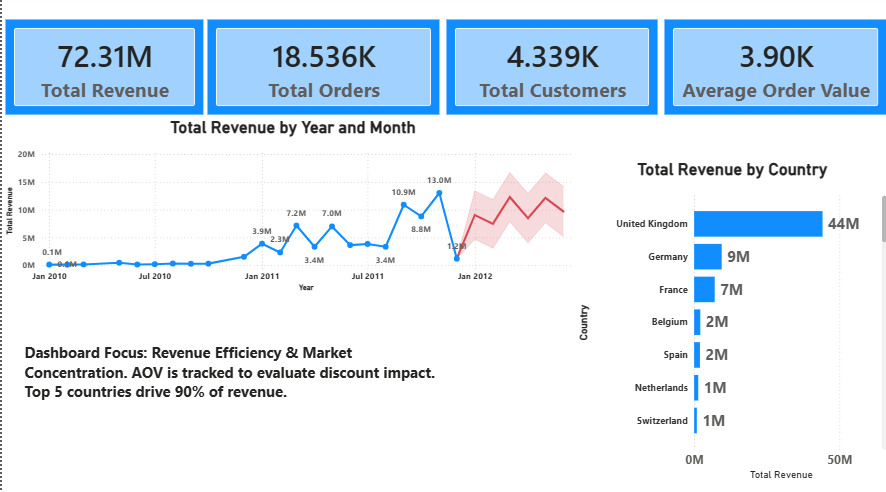

The page's visual inventory and layout, read from the dashboard file:
{"tool":"powerbi","page":{"name":"CEO View","canvas":[1280,720],"ordinal":0},"visuals":[{"type":"cardVisual","fields":{"Data":["customers.Total Revenue"]},"box":[0,30.2,295.6,147.8],"z":0},{"type":"cardVisual","fields":{"Data":["Count(orders.InvoiceNo)"]},"box":[290.6,30.2,344.4,147.8],"z":1000},{"type":"cardVisual","fields":{"Data":["Count(customers.CustomerID)"]},"box":[635,30.2,314.1,147.8],"z":2000},{"type":"cardVisual","fields":{"Data":["customers.Average Order Value"]},"box":[949.1,30.2,330.9,147.8],"z":3000},{"type":"lineChart","fields":{"Y":["customers.Total Revenue"],"Category":["orders.InvoiceDate.Variation.Date Hierarchy.Year","orders.InvoiceDate.Variation.Date Hierarchy.Month"]},"box":[0,177.2,838.6,254.4],"z":4000},{"type":"clusteredBarChart","fields":{"Category":["customers.Country"],"Y":["customers.Total Revenue"]},"box":[823.8,237.9,456.2,466.1],"z":5000},{"type":"textbox","box":[27.9,495.6,612.1,151],"z":6000}]}

Visuals, with their boxes in screenshot pixels (x1, y1, x2, y2), scaled from the page's 1280x720 canvas onto the 886x492 screenshot:
cardVisual - customers.Total Revenue: pyautogui.locateOnScreen(0, 21, 205, 122)
cardVisual - Count(orders.InvoiceNo): pyautogui.locateOnScreen(201, 21, 440, 122)
cardVisual - Count(customers.CustomerID): pyautogui.locateOnScreen(440, 21, 657, 122)
cardVisual - customers.Average Order Value: pyautogui.locateOnScreen(657, 21, 885, 122)
lineChart - customers.Total Revenue x orders.InvoiceDate.Variation.Date Hierarchy.Year: pyautogui.locateOnScreen(0, 121, 580, 295)
clusteredBarChart - customers.Country x customers.Total Revenue: pyautogui.locateOnScreen(570, 163, 885, 481)
textbox: pyautogui.locateOnScreen(19, 339, 443, 442)
